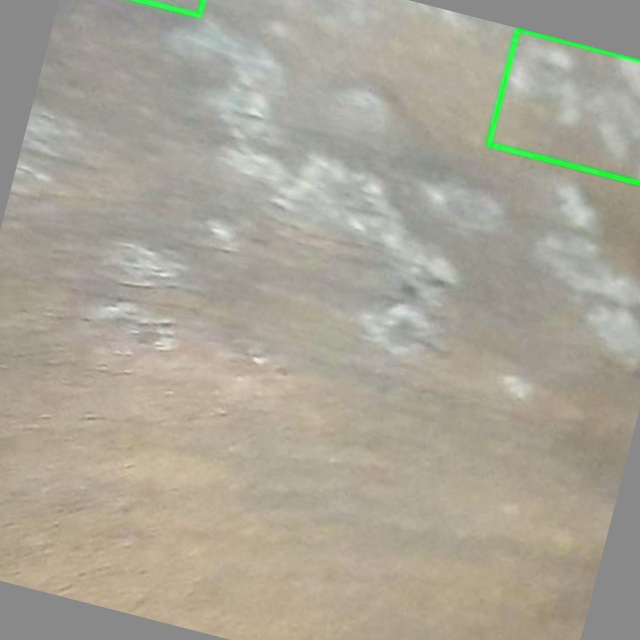Seborrheic Dermatitis: (488, 29, 639, 183)
